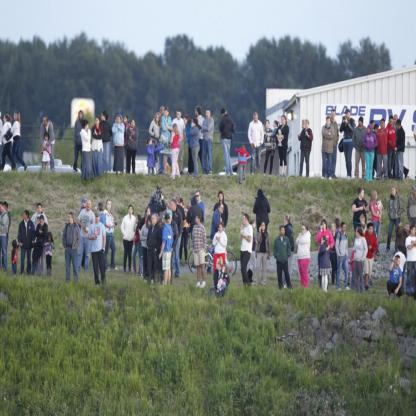face: (218, 192, 224, 202), (254, 115, 259, 124), (196, 193, 201, 202), (302, 227, 307, 235), (196, 215, 200, 224), (153, 216, 157, 225), (172, 202, 176, 211), (394, 118, 399, 125), (397, 123, 402, 130), (266, 121, 270, 129), (332, 112, 336, 120), (390, 118, 394, 126), (412, 227, 416, 235), (207, 111, 211, 119), (323, 222, 327, 230), (374, 192, 378, 200), (393, 188, 397, 196), (361, 191, 365, 199), (397, 258, 401, 266), (178, 112, 182, 120), (69, 216, 73, 224), (87, 202, 91, 210), (129, 207, 133, 215), (243, 217, 247, 225), (219, 225, 223, 233), (281, 228, 285, 236), (370, 228, 374, 235), (406, 225, 410, 232), (343, 226, 347, 233), (356, 231, 360, 238), (192, 121, 196, 128), (96, 119, 100, 126), (39, 206, 43, 213), (96, 215, 100, 222), (108, 202, 112, 209), (148, 209, 152, 216), (220, 206, 224, 213), (217, 262, 221, 269), (282, 117, 285, 126), (327, 120, 331, 126), (346, 113, 350, 119), (377, 127, 380, 135), (163, 217, 166, 225), (322, 238, 325, 246), (185, 118, 188, 126), (118, 117, 122, 123), (132, 122, 136, 128), (41, 220, 45, 226), (1, 205, 4, 213), (253, 222, 256, 230), (262, 224, 266, 230), (285, 218, 288, 226), (368, 127, 371, 134), (381, 121, 384, 128), (373, 121, 376, 128), (196, 110, 199, 117), (161, 108, 164, 115), (14, 113, 17, 120), (24, 213, 27, 220), (149, 141, 153, 146), (305, 122, 308, 128), (360, 121, 363, 127), (414, 188, 416, 197), (332, 225, 335, 231), (165, 111, 168, 117), (157, 116, 160, 122), (102, 115, 105, 121), (125, 117, 128, 123), (86, 124, 89, 130), (80, 113, 83, 119), (4, 117, 7, 123), (44, 119, 47, 125), (46, 134, 49, 140), (49, 236, 52, 242), (84, 201, 87, 207), (149, 221, 152, 227), (137, 218, 140, 224), (274, 123, 277, 128)
